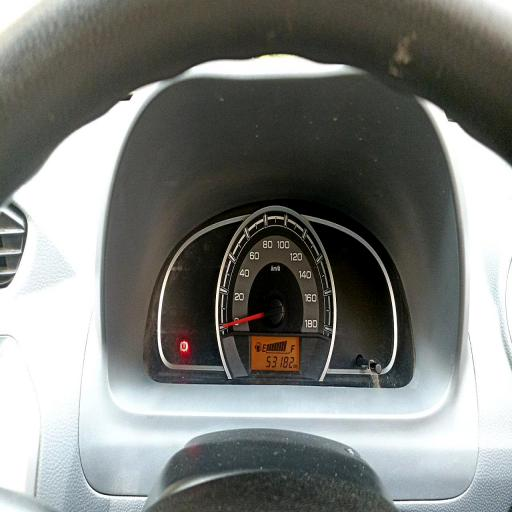brake_system_fault: (180, 342, 188, 351)
